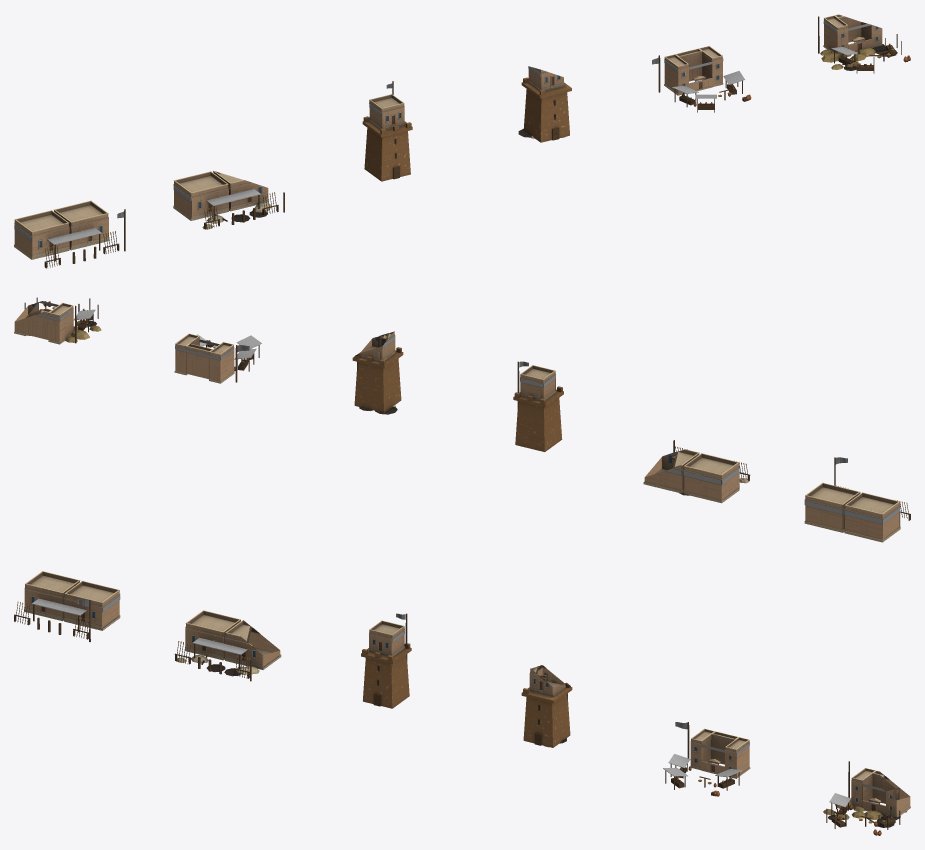
The model's file is rts-bronze-levant.glb.
3 views of the same model, one above another, from view 1: azimuth 30°, elevation 25°; view 2: azimuth 150°, elevation 25°; view 3: azimuth 330°, elevation 25° (orthographic).
Visible parts, largest first — view 1: LOD0, LOD0.001, LOD0.002, LOD0.004, LOD0.005, LOD0.003; view 2: LOD0, LOD0.001, LOD0.002, LOD0.003, LOD0.004, LOD0.005; view 3: LOD0, LOD0.001, LOD0.002, LOD0.004, LOD0.005, LOD0.003.
Part boxes in pixels (bbox=[...]): LOD0: bbox=[14, 200, 125, 268]; LOD0.001: bbox=[173, 170, 284, 229]; LOD0.002: bbox=[362, 81, 412, 181]; LOD0.004: bbox=[652, 46, 751, 112]; LOD0.005: bbox=[818, 14, 910, 73]; LOD0.003: bbox=[518, 66, 571, 142]; LOD0: bbox=[804, 457, 910, 542]; LOD0.001: bbox=[643, 440, 750, 503]; LOD0.002: bbox=[513, 361, 563, 451]; LOD0.003: bbox=[352, 331, 403, 414]; LOD0.004: bbox=[174, 333, 261, 383]; LOD0.005: bbox=[14, 297, 101, 344]; LOD0: bbox=[14, 571, 120, 641]; LOD0.001: bbox=[174, 610, 281, 681]; LOD0.002: bbox=[361, 613, 411, 708]; LOD0.004: bbox=[663, 722, 750, 796]; LOD0.005: bbox=[823, 761, 910, 835]; LOD0.003: bbox=[521, 665, 572, 747].
Size of what is drawn, in the model's own units: 16.33 by 1.48 by 1.36.
2 materials, 2 textured.
